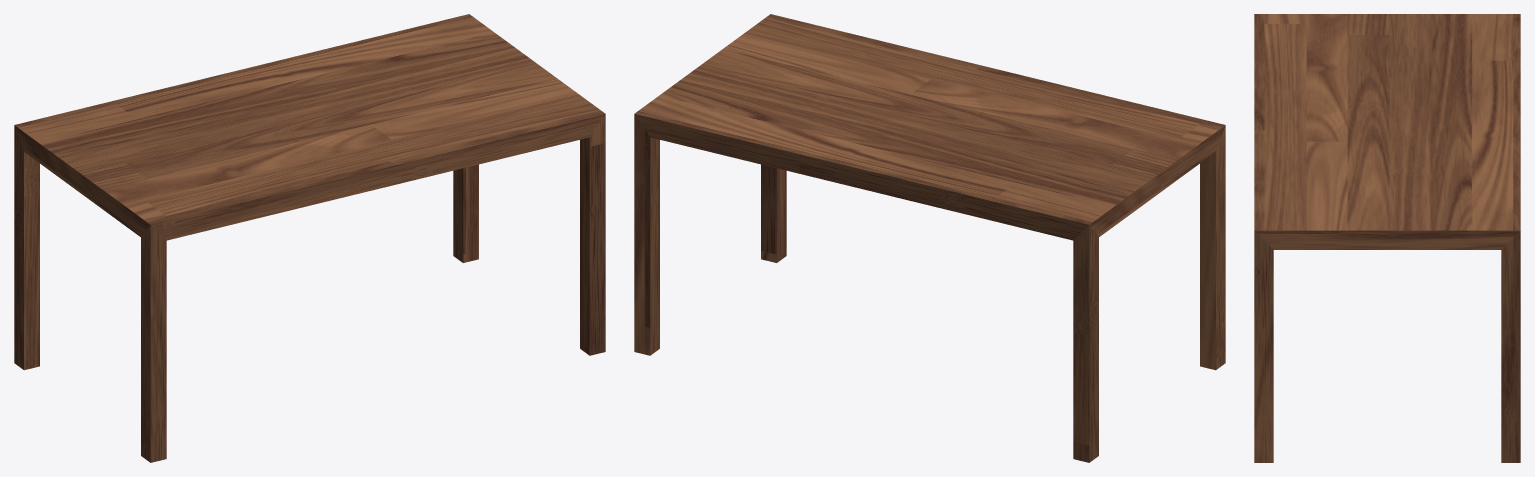
The model's file is desk_ggj.fbx.
The picture shows the model from 3 angles, left to right: view 1: azimuth 30°, elevation 25°; view 2: azimuth 150°, elevation 25°; view 3: azimuth 270°, elevation 25°; orthographic projection. The views are drawn at different scales.
Parts seen in each view (by area): view 1: desk_ggj; view 2: desk_ggj; view 3: desk_ggj.
Part boxes in pixels (box(x1,y1,x2,y2)): desk_ggj: box(14, 14, 605, 462); desk_ggj: box(634, 14, 1225, 462); desk_ggj: box(1254, 14, 1520, 462).
Size of the model in its own units: 640 by 320 by 332.
Materials: 1 (1 with a texture image).
